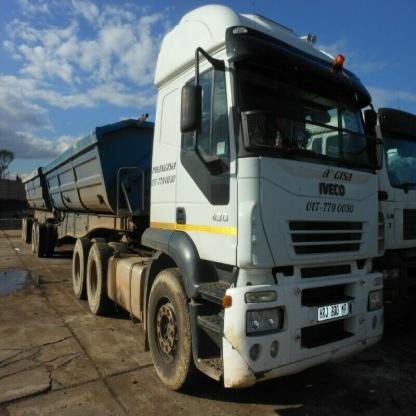dump_truck: (16, 6, 388, 397)
